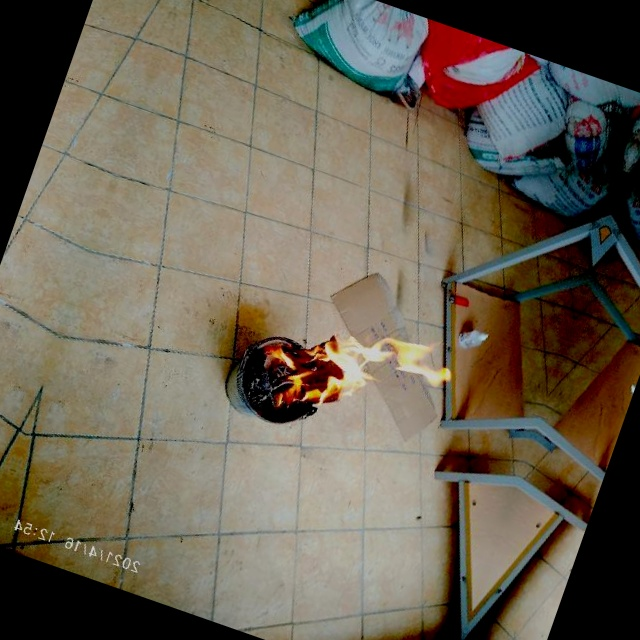fire: (234, 286, 445, 463)
